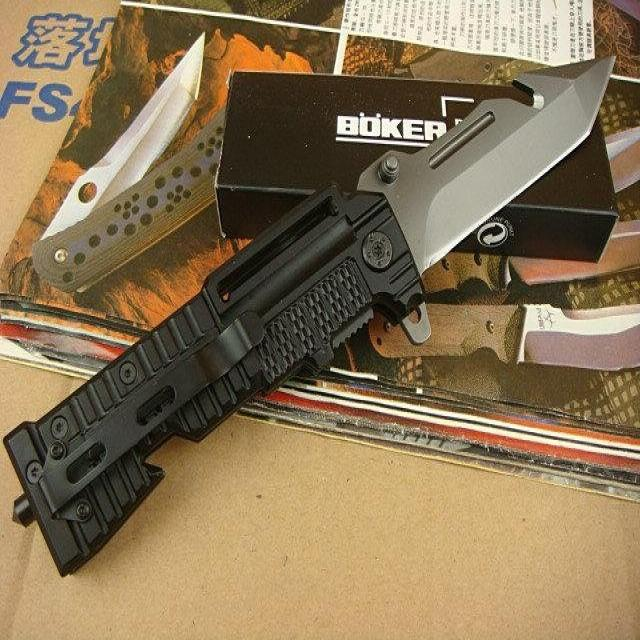knife: (7, 45, 621, 591)
